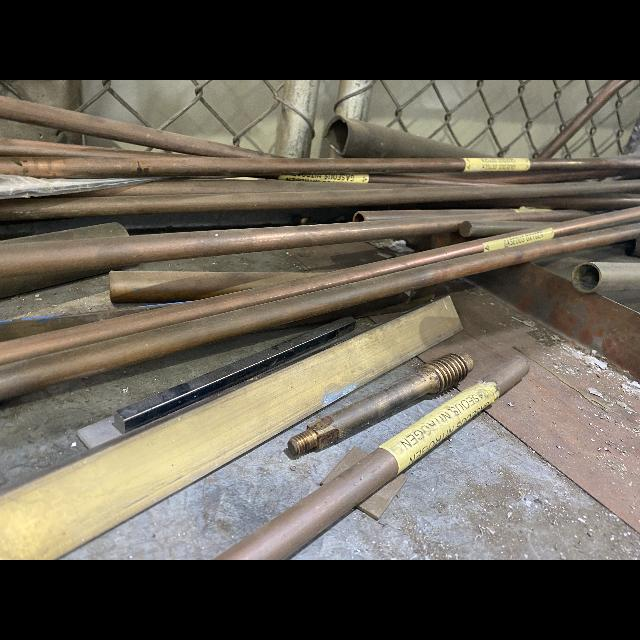Brass: (0, 296, 463, 560), (288, 353, 473, 456), (323, 115, 490, 158), (0, 308, 150, 342), (0, 269, 109, 298), (0, 222, 129, 244), (0, 222, 128, 244), (358, 474, 407, 520), (571, 262, 640, 293), (321, 447, 368, 486), (459, 220, 559, 237)
Copper: (0, 223, 640, 400), (0, 208, 639, 365), (0, 210, 602, 277), (0, 179, 640, 220), (216, 448, 398, 560), (0, 96, 271, 158), (0, 156, 465, 179), (538, 80, 631, 159), (55, 180, 476, 196), (109, 271, 317, 303), (1, 138, 221, 158), (391, 169, 627, 184), (353, 208, 516, 222), (482, 356, 530, 396), (529, 155, 640, 171), (369, 175, 516, 185)
